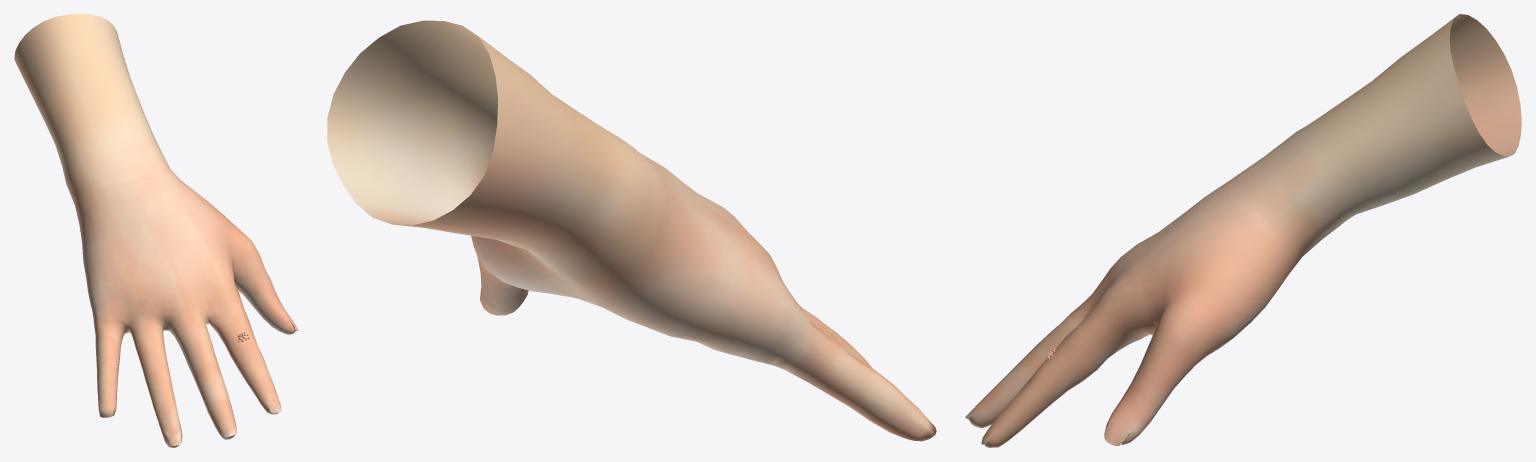
3 renders of one model, left to right at view 1: azimuth 30°, elevation 25°; view 2: azimuth 150°, elevation 25°; view 3: azimuth 270°, elevation 25°, orthographic. The views are drawn at different scales.
Parts seen in each view (by area): view 1: Skin; view 2: Skin; view 3: Skin.
Boxes of the visible parts, x1=… form: Skin: x1=14, y1=14, x2=298, y2=447; Skin: x1=327, y1=20, x2=936, y2=441; Skin: x1=965, y1=14, x2=1521, y2=447.
Bounding box in the file's own units: 1.02 × 1.41 × 1.68.
Materials: 1 (1 with a texture image).
